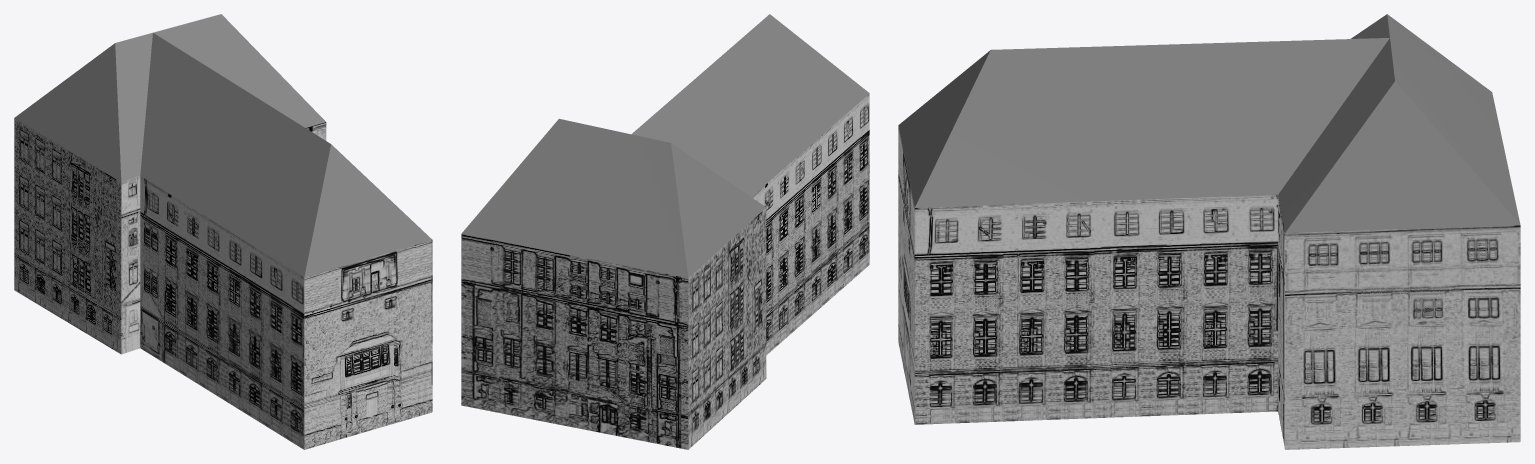
The model's file is Mueller-Bau.gltf.
3 renders of one model, left to right at view 1: azimuth 30°, elevation 25°; view 2: azimuth 150°, elevation 25°; view 3: azimuth 270°, elevation 25°, orthographic. The views are drawn at different scales.
Parts seen in each view (by area): view 1: Dach.1; view 2: Dach.1; view 3: Dach.1.
Boxes of the visible parts, box(x1,y1,x2,y2) form: Dach.1: box(14, 14, 432, 449); Dach.1: box(461, 14, 869, 449); Dach.1: box(898, 14, 1520, 449).
Size of the model in its own units: 22.81 by 25 by 42.55.
9 materials, 8 textured.
